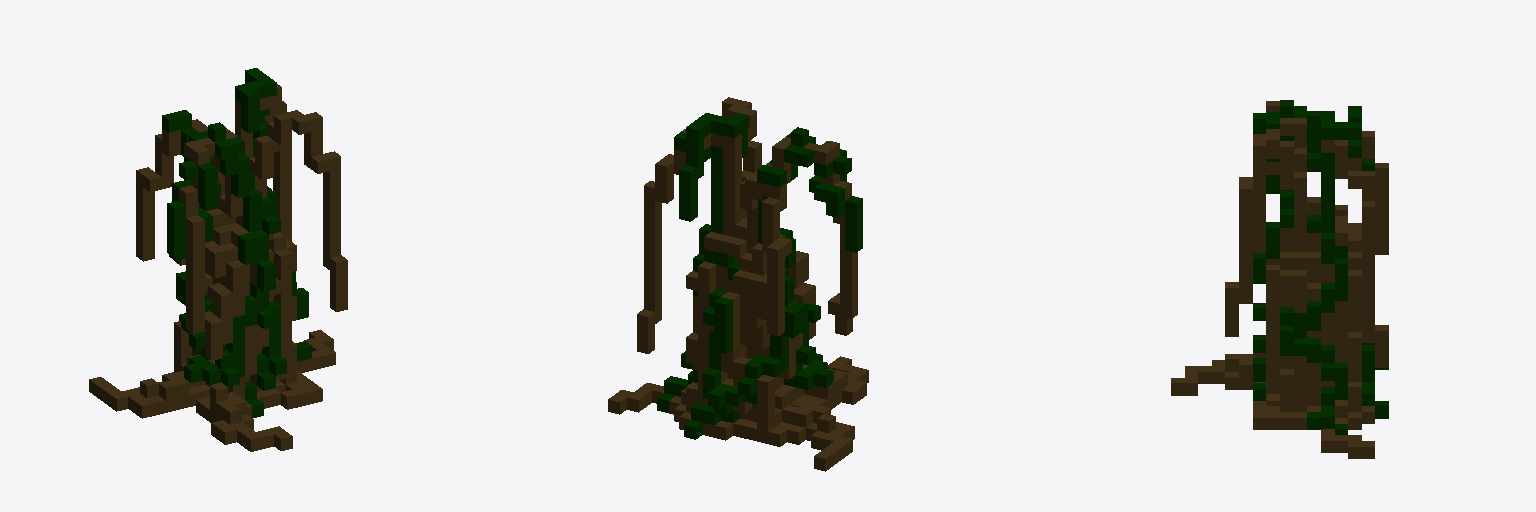
3 views of the same model, side by side, from view 1: azimuth 30°, elevation 25°; view 2: azimuth 150°, elevation 25°; view 3: azimuth 270°, elevation 25° (orthographic).
Visible parts, largest first — view 1: swampTree3; view 2: swampTree3; view 3: swampTree3.
Boxes of the visible parts, box(x1,y1,x2,y2) form: swampTree3: box(89, 68, 347, 451); swampTree3: box(608, 97, 868, 471); swampTree3: box(1171, 100, 1388, 458).
Bounding box in the file's own units: 19 × 24 × 16.
1 materials, 1 textured.